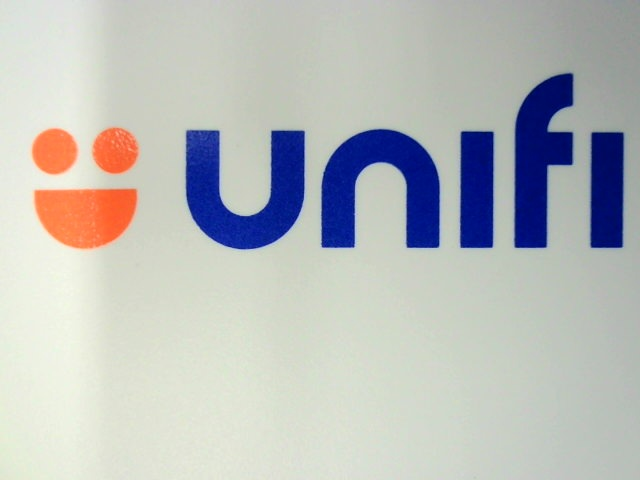BN_unifi: (20, 69, 637, 258)
